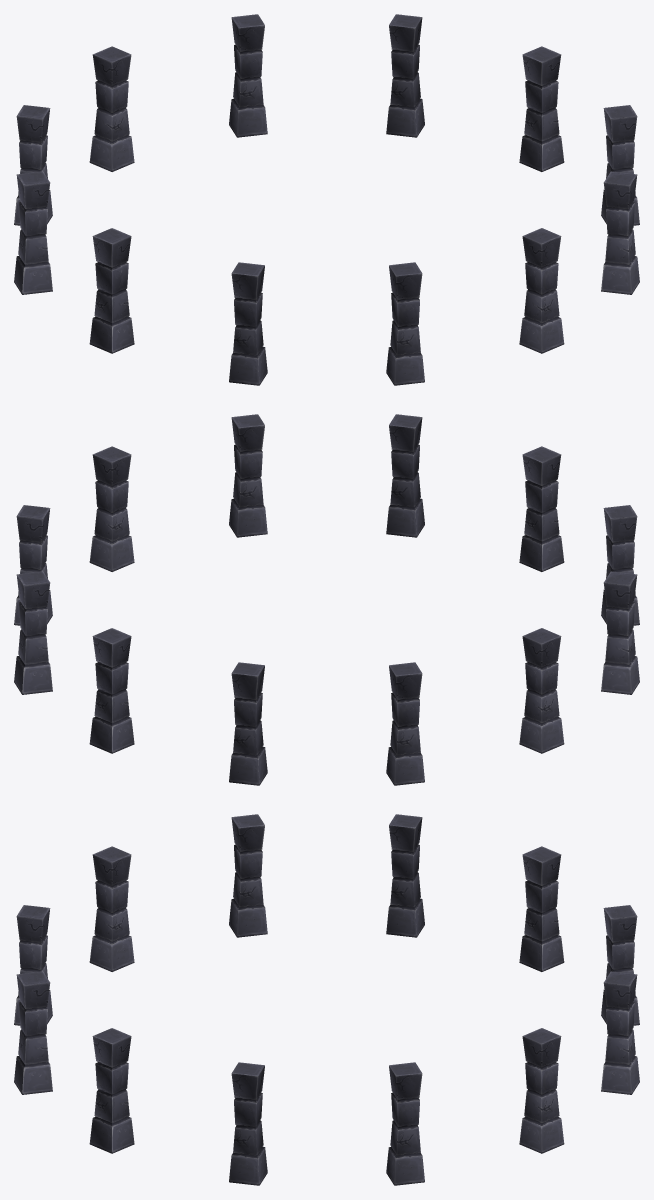
Rendered from mod_Column.fbx.
3 renders of one model, top to bottom at view 1: azimuth 30°, elevation 25°; view 2: azimuth 150°, elevation 25°; view 3: azimuth 270°, elevation 25°, orthographic.
Parts seen in each view (by area): view 1: mod_Column; view 2: mod_Column; view 3: mod_Column.
Boxes of the visible parts, bbox=[...] form: mod_Column: bbox=[14, 14, 639, 385]; mod_Column: bbox=[14, 414, 639, 785]; mod_Column: bbox=[14, 814, 639, 1185].
Size of the model in its own units: 20.8 by 3.97 by 20.8.
